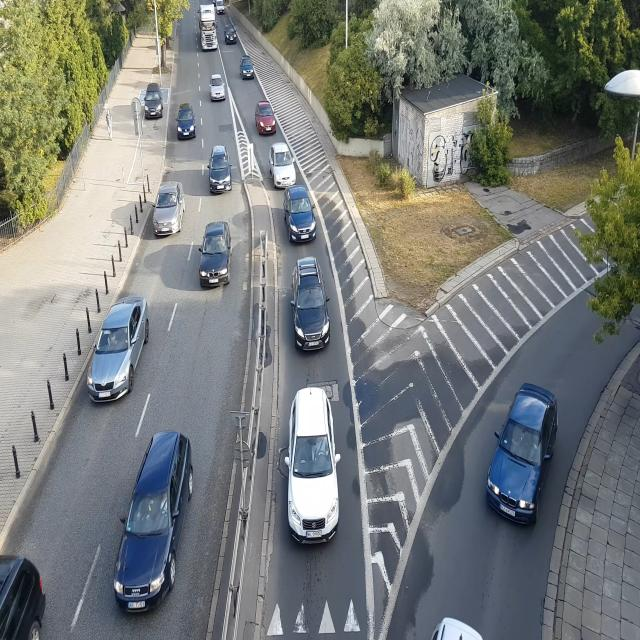car: (110, 430, 189, 615), (282, 382, 346, 547), (486, 389, 559, 524), (84, 295, 150, 403), (0, 546, 55, 640), (292, 259, 332, 352), (200, 221, 233, 286), (285, 186, 318, 246), (152, 180, 185, 235), (432, 611, 489, 640), (268, 142, 298, 191), (207, 144, 232, 196), (143, 86, 165, 120), (254, 102, 276, 135), (177, 106, 198, 140), (210, 75, 230, 102), (238, 59, 255, 79), (215, 0, 226, 19), (226, 28, 238, 44)
truck: (200, 5, 217, 58)
